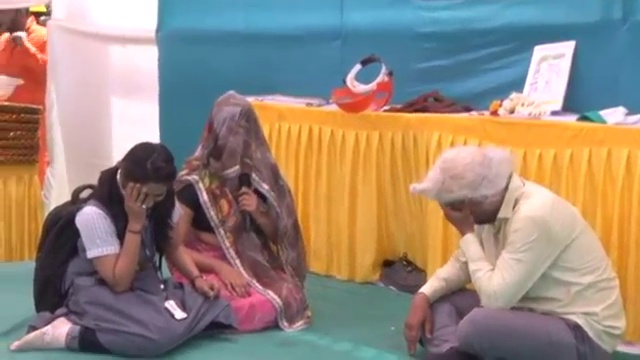helmet: (0, 72, 25, 103)
helmet_off: (421, 144, 513, 238), (113, 142, 178, 213), (203, 93, 263, 169), (0, 1, 49, 38)
person: (377, 144, 629, 360), (10, 140, 230, 359), (167, 89, 304, 332), (0, 2, 51, 104)
